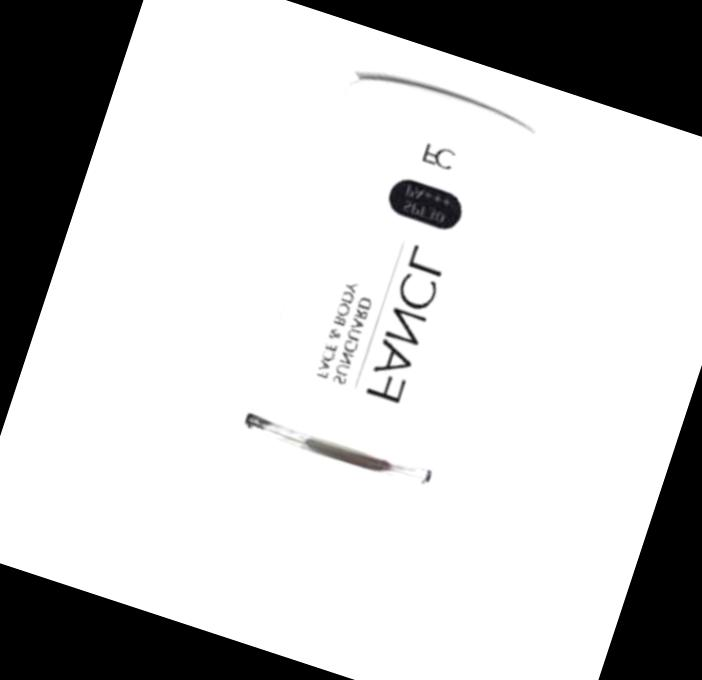cosmetic: (194, 61, 558, 606)
